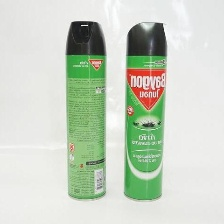aerosol_cans: (119, 19, 170, 203), (63, 18, 111, 203)
